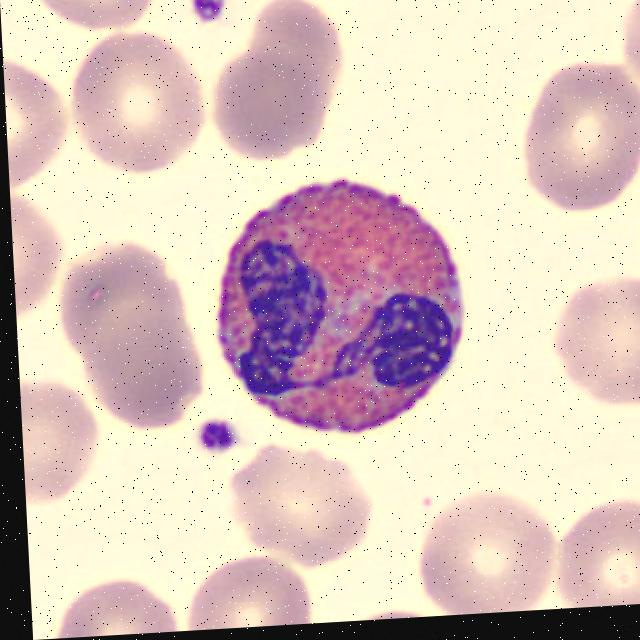eosinophil: (204, 169, 489, 445)
platelets: (193, 414, 242, 461), (187, 0, 232, 30)
rbc: (56, 236, 212, 436), (225, 438, 383, 597), (210, 0, 352, 154), (69, 26, 207, 175), (517, 50, 640, 215), (410, 480, 556, 617), (551, 266, 640, 406), (19, 366, 105, 501), (187, 548, 317, 631), (551, 493, 640, 609), (3, 50, 74, 187), (44, 572, 186, 639), (10, 181, 68, 318), (42, 0, 159, 41)
